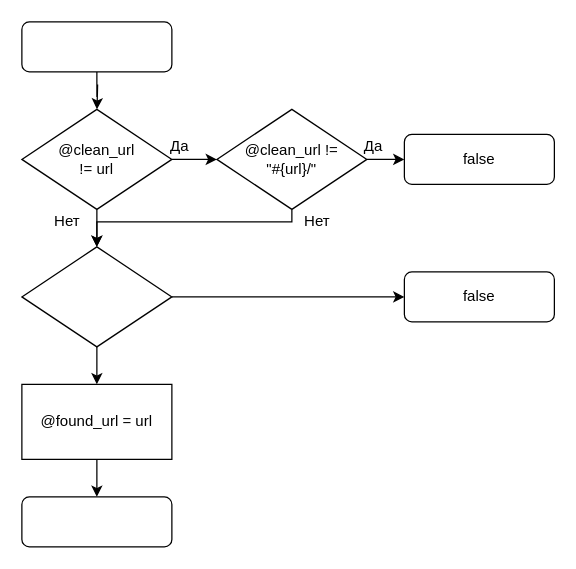
The diagram is 576 pixels wide and 569 high, and some of its shapes have lost their labels. Here are the shapes that lost their labels. From the top down, the centre of each, then its label:
the point at 96,46: начало
the point at 96,296: @method != additional_info [:requested_method]
the point at 96,521: true
